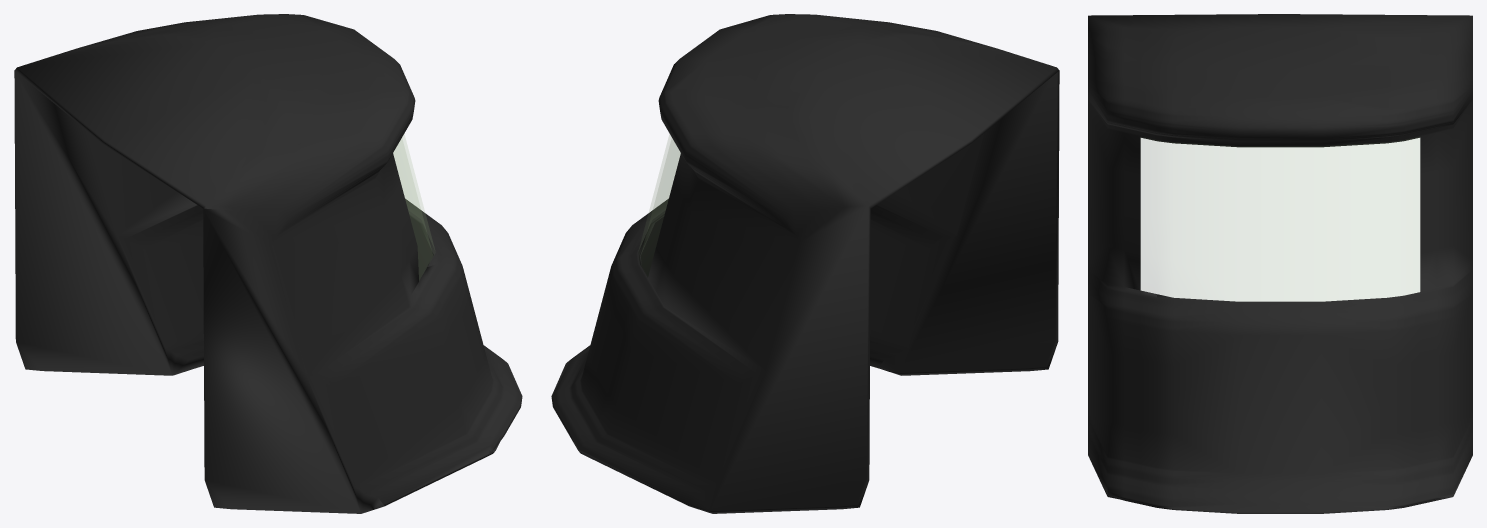
The model's file is Helm.dae.
3 renders of one model, left to right at view 1: azimuth 30°, elevation 25°; view 2: azimuth 150°, elevation 25°; view 3: azimuth 270°, elevation 25°, orthographic.
Parts seen in each view (by area): view 1: Helm, Visier; view 2: Helm, Visier; view 3: Helm, Visier.
Boxes of the visible parts, box(x1,y1,x2,y2) form: Helm: box(14, 14, 522, 513); Visier: box(393, 135, 434, 278); Helm: box(551, 14, 1059, 513); Visier: box(640, 135, 680, 275); Helm: box(1088, 14, 1472, 513); Visier: box(1141, 138, 1419, 300).
Bounding box in the file's own units: 0.3254 × 0.2755 × 0.318.
